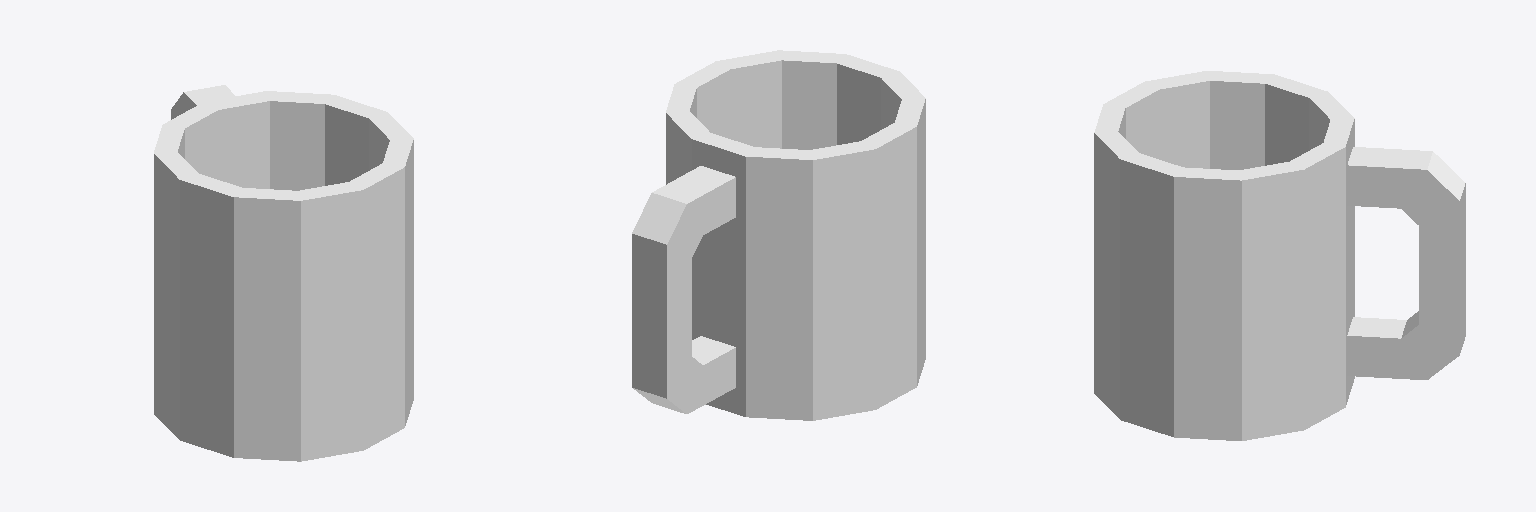
3 renders of one model, left to right at view 1: azimuth 30°, elevation 25°; view 2: azimuth 150°, elevation 25°; view 3: azimuth 270°, elevation 25°, orthographic.
Parts seen in each view (by area): view 1: model_normalized.007; view 2: model_normalized.007; view 3: model_normalized.007.
Boxes of the visible parts, box(x1,y1,x2,y2) form: model_normalized.007: box(154, 85, 413, 461); model_normalized.007: box(632, 50, 925, 420); model_normalized.007: box(1094, 71, 1465, 440).
Size of the model in its own units: 0.4846 by 0.5358 by 0.6915.